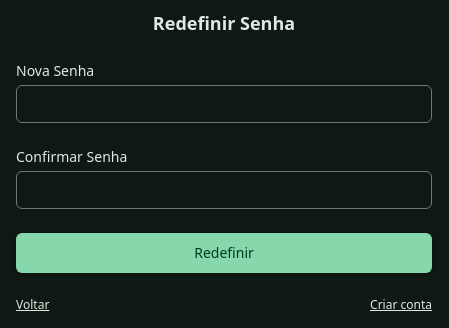
Test: ResetPasswordPage › redefine a senha com sucesso
In the password field labelled "Nova Senha": (224, 104) [16,85,432,123], type "abcdef"
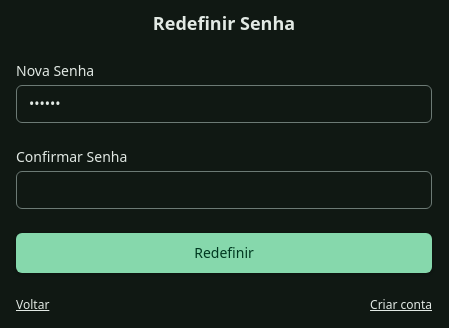
In the password field labelled "Confirmar Senha": (224, 190) [16,171,432,209], type "abcdef"
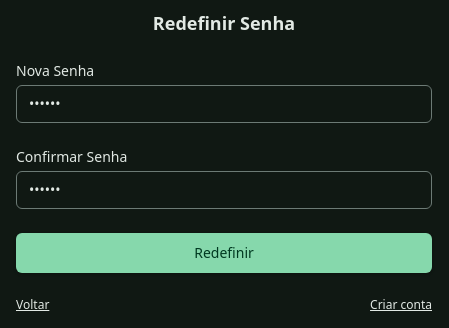
Click the button "Redefinir": (224, 253) [16,233,432,273]
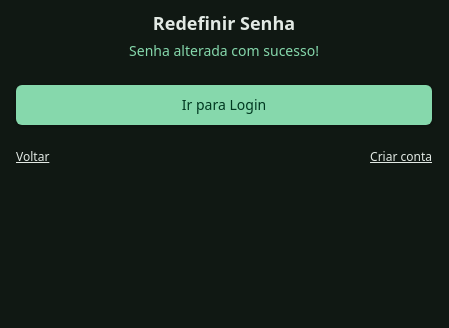
expect the text "Senha alterada com sucesso!" is shown: met, box [129,41,319,60]
